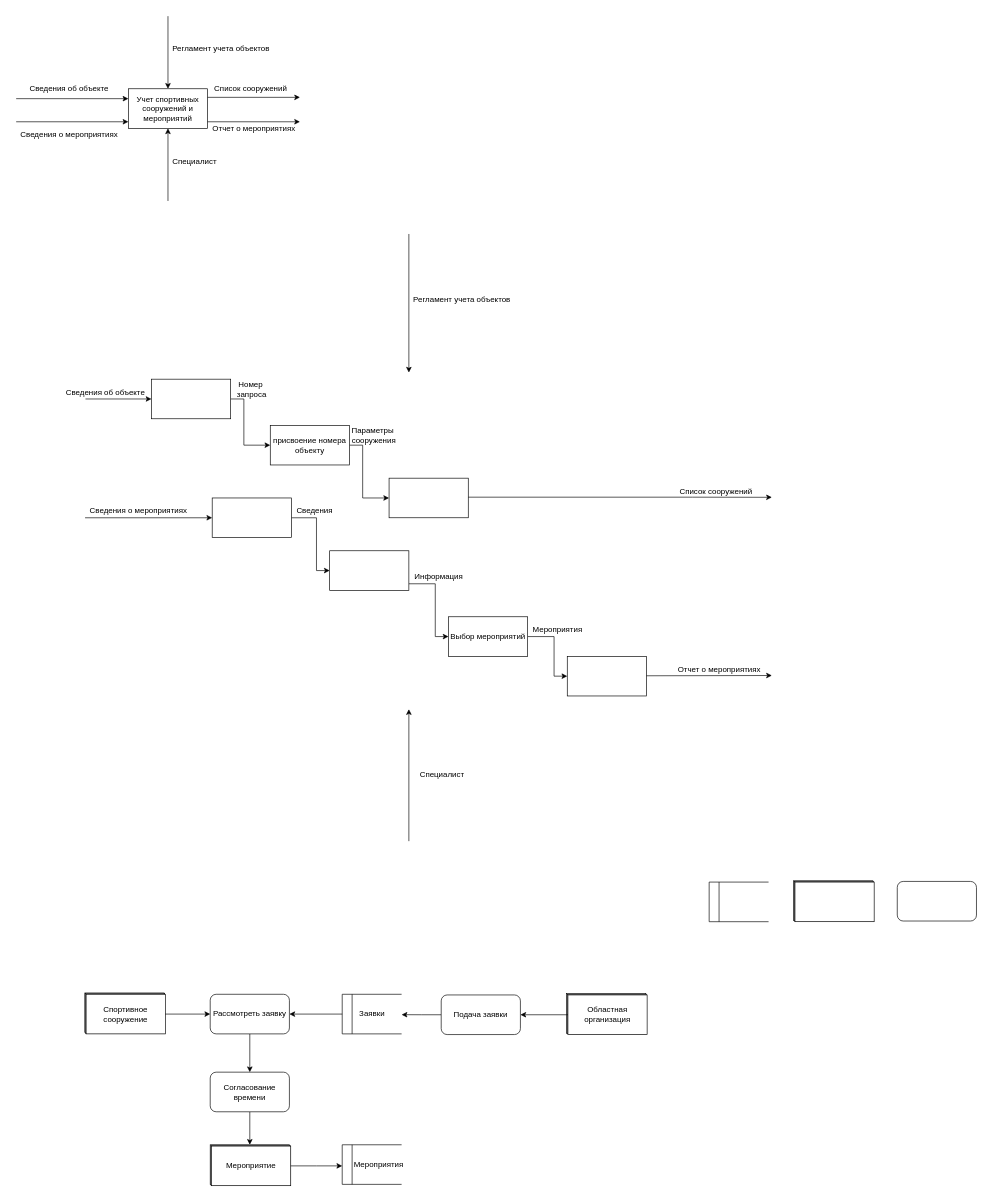
Image size: 988x1197. Some labels were removed from this diagram. The shapes that lost their labels are listed below. From the top down, each one's centre as x and y in pixels, then its label:
At pixel 191 399: "Регистрация объекта".
At pixel 251 517: "Регистрация сведений о мероприятиях".
At pixel 428 498: "Назначение ответственного лица".
At pixel 369 570: "Сбор информации о мероприятиях".
At pixel 606 676: "Формирование отчета".
